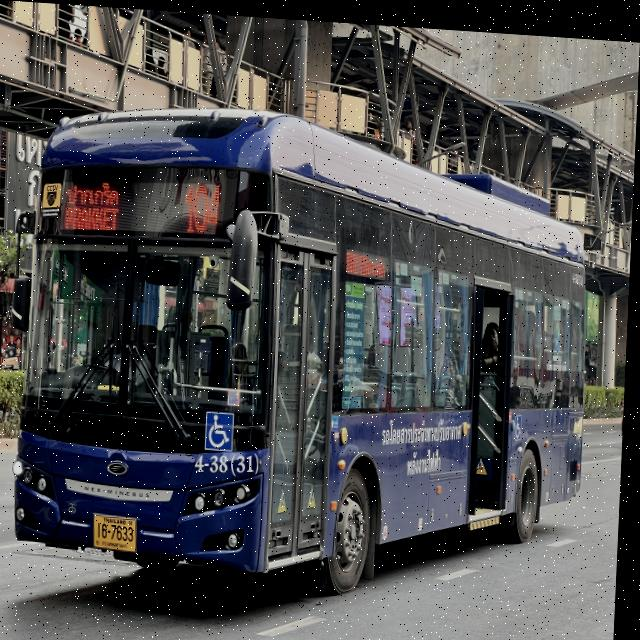Bus-Line-Number: (179, 167, 230, 242)
Destination-Sign-Normal: (62, 169, 126, 238)
TSB-Bus: (16, 84, 601, 606)
